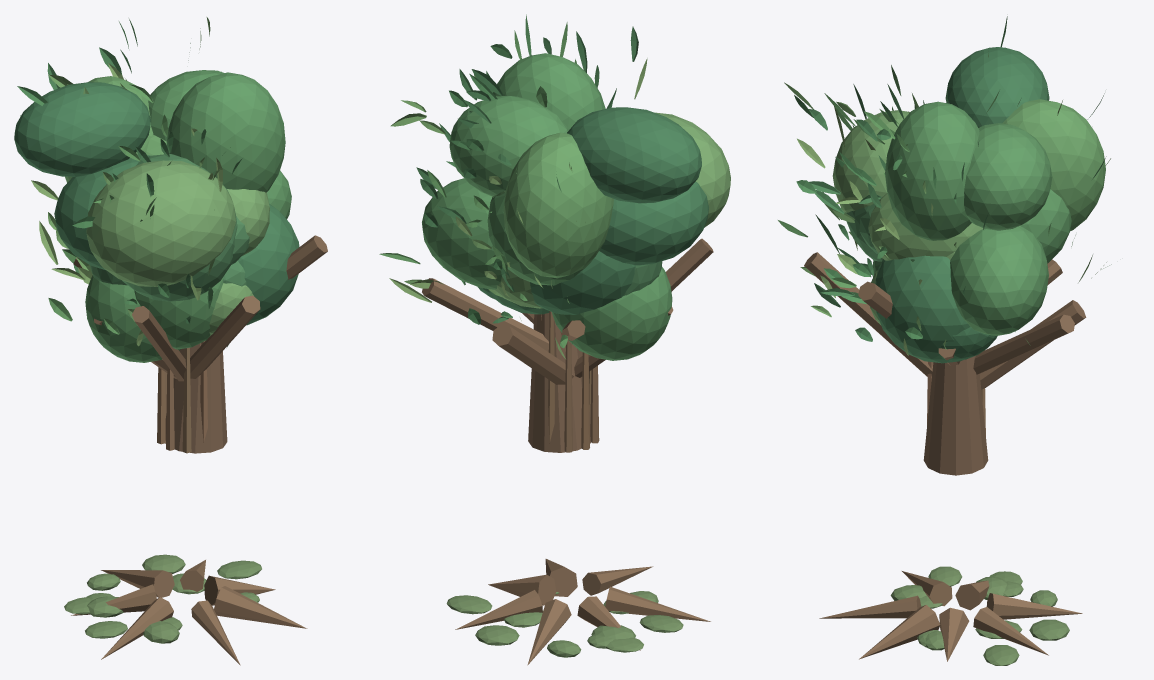
Rendered from Arvore.glb.
3 views of the same model, side by side, from view 1: azimuth 30°, elevation 25°; view 2: azimuth 150°, elevation 25°; view 3: azimuth 270°, elevation 25° (orthographic).
Visible parts, largest first — view 1: Copa_volume_18, Copa_volume_13, Copa_volume_14, Copa_volume_19, Copa_volume_20, Tronco_casca_castanho, Copa_volume_4, Copa_volume_5, Copa_volume_10, Galho_2, Copa_volume_3, Copa_volume_15 (+20 smaller); view 2: Copa_volume_0, Copa_volume_14, Copa_volume_3, Copa_volume_4, Copa_volume_20, Copa_volume_1, Copa_volume_13, Tronco_casca_castanho, Copa_volume_8, Copa_volume_18, Galho_7, Galho_6 (+18 smaller); view 3: Copa_volume_13, Copa_volume_1, Copa_volume_3, Copa_volume_19, Copa_volume_0, Tronco_casca_castanho, Copa_volume_14, Copa_volume_18, Copa_volume_15, Galho_7, Copa_volume_9, Galho_2 (+13 smaller).
Part boxes in pixels (box(x1,y1,x2,y2)): Copa_volume_18: box(86, 160, 235, 286); Copa_volume_13: box(166, 72, 285, 192); Copa_volume_14: box(14, 82, 150, 176); Copa_volume_19: box(238, 203, 299, 325); Copa_volume_20: box(85, 275, 180, 362); Tronco_casca_castanho: box(165, 343, 227, 453); Copa_volume_4: box(54, 155, 149, 269); Copa_volume_5: box(134, 278, 223, 349); Copa_volume_10: box(122, 154, 237, 301); Galho_2: box(190, 295, 260, 378); Copa_volume_3: box(148, 70, 224, 141); Copa_volume_15: box(227, 189, 269, 255); Copa_volume_0: box(503, 132, 613, 278); Copa_volume_14: box(567, 107, 701, 203); Copa_volume_3: box(449, 96, 568, 196); Copa_volume_4: box(599, 181, 708, 265); Copa_volume_20: box(552, 267, 672, 360); Copa_volume_1: box(422, 178, 501, 289); Copa_volume_13: box(493, 53, 605, 129); Tronco_casca_castanho: box(528, 313, 590, 452); Copa_volume_8: box(530, 251, 635, 314); Copa_volume_18: box(654, 112, 730, 227); Galho_7: box(422, 278, 548, 351); Galho_6: box(492, 324, 574, 384); Copa_volume_13: box(885, 101, 979, 240); Copa_volume_1: box(950, 226, 1048, 335); Copa_volume_3: box(964, 123, 1052, 230); Copa_volume_19: box(875, 255, 970, 363); Copa_volume_0: box(1002, 99, 1105, 231); Tronco_casca_castanho: box(923, 356, 988, 475); Copa_volume_14: box(945, 47, 1049, 127); Copa_volume_18: box(832, 110, 910, 212); Copa_volume_15: box(868, 193, 1020, 260); Galho_7: box(973, 314, 1074, 374); Copa_volume_9: box(1020, 189, 1071, 263); Galho_2: box(804, 252, 932, 376).
Bounding box in the file's own units: 3.38 × 5.74 × 3.48.
